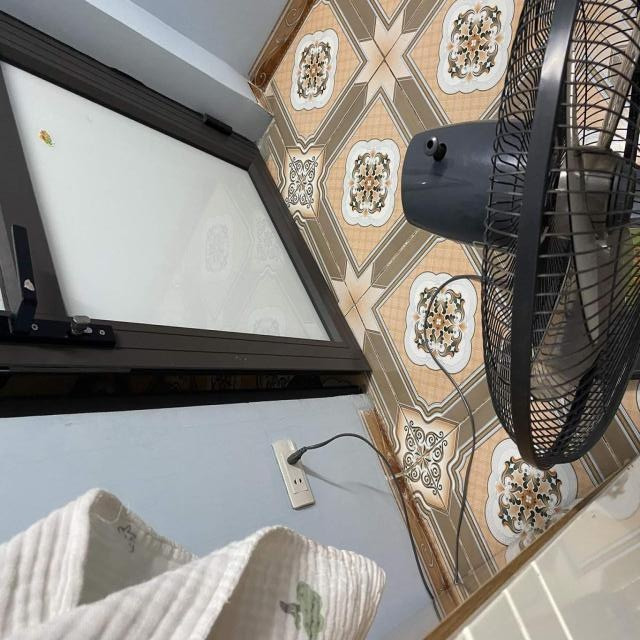outlet: (272, 440, 315, 511)
